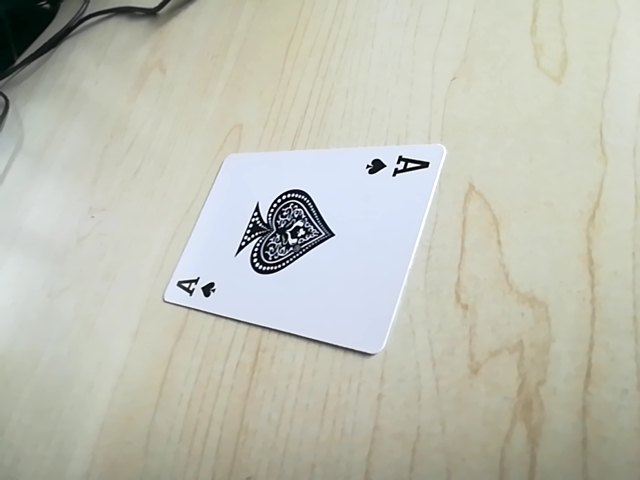ht a: (358, 150, 433, 184), (163, 274, 224, 307)
